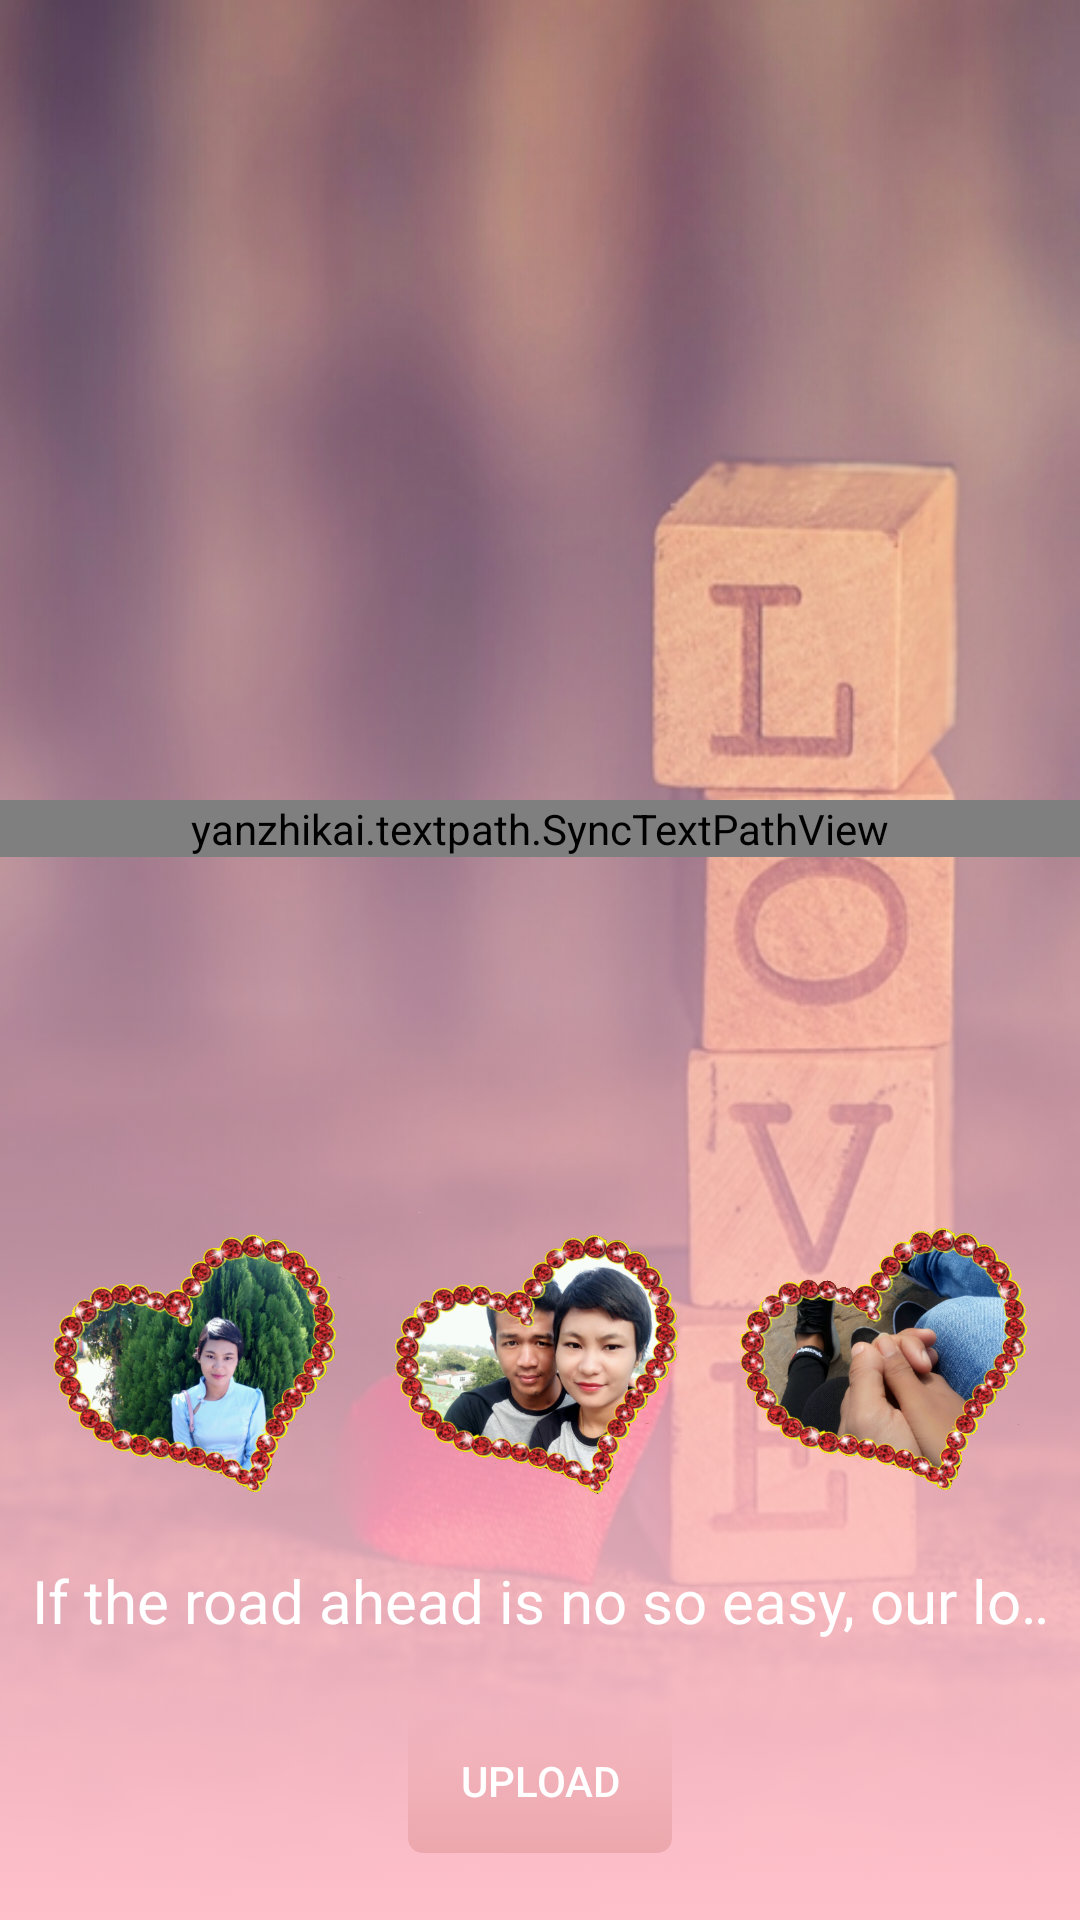

Named icons in this screenshot (1080w x 1920h) and their centers, point (x, y):
one person: point (195, 1362)
two person: point (540, 1362)
